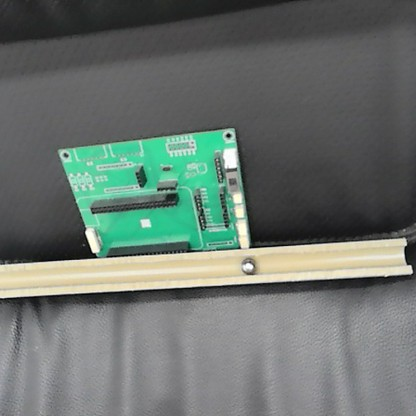ironball: (239, 256, 258, 276)
